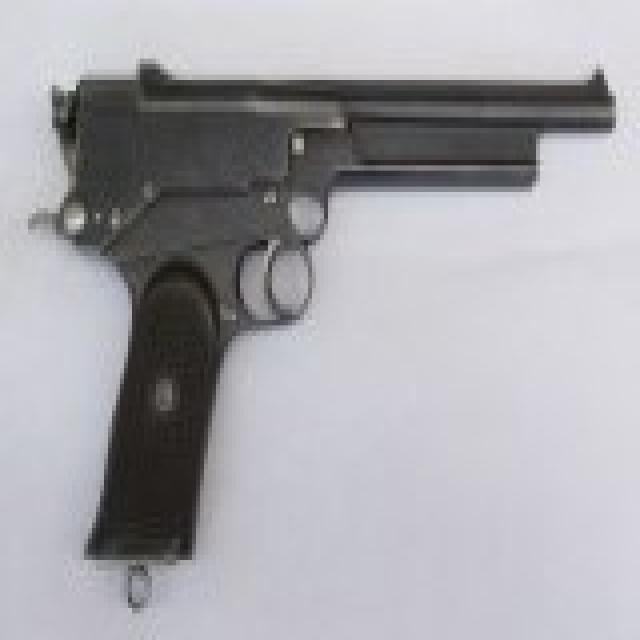Gun: (42, 26, 626, 569)
